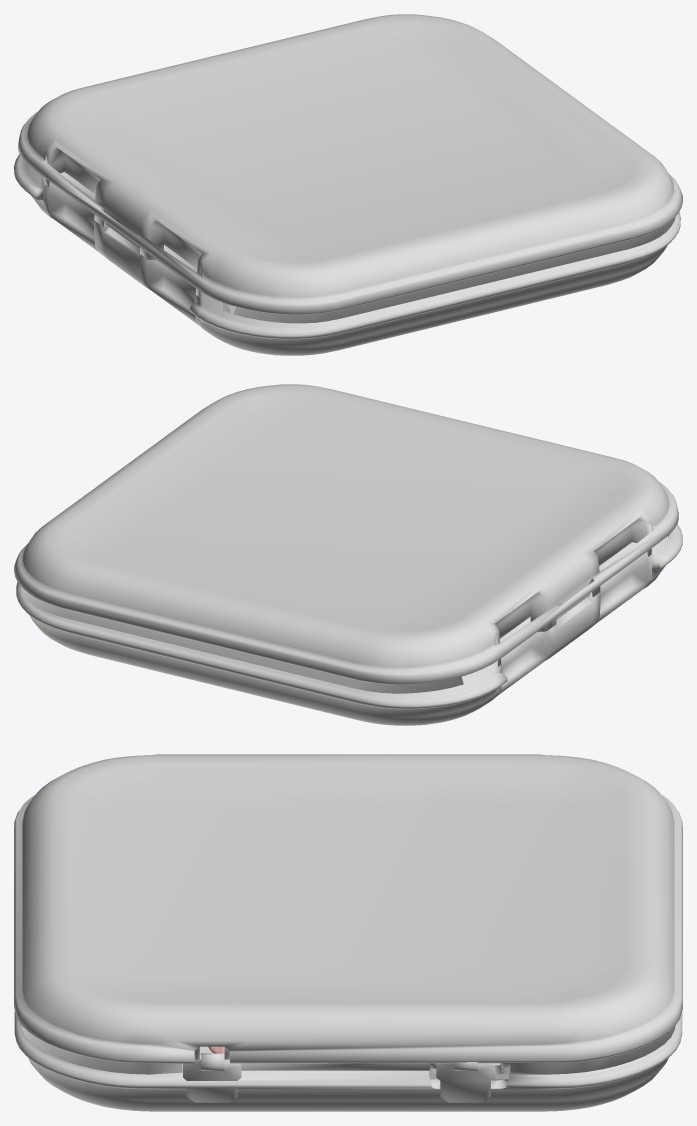
The model's file is pork-nails.glb.
3 views of the same model, one above another, from view 1: azimuth 30°, elevation 25°; view 2: azimuth 150°, elevation 25°; view 3: azimuth 270°, elevation 25° (orthographic). The views are drawn at different scales.
Parts seen in each view (by area): view 1: case; view 2: case; view 3: case.
Part boxes in pixels (x1,y1,x2,y2): case: [14, 14, 682, 355]; case: [14, 384, 682, 725]; case: [14, 754, 682, 1111].
Bounding box in the file's own units: 0.8439 × 0.1513 × 0.8443.
2 materials, 1 textured.
